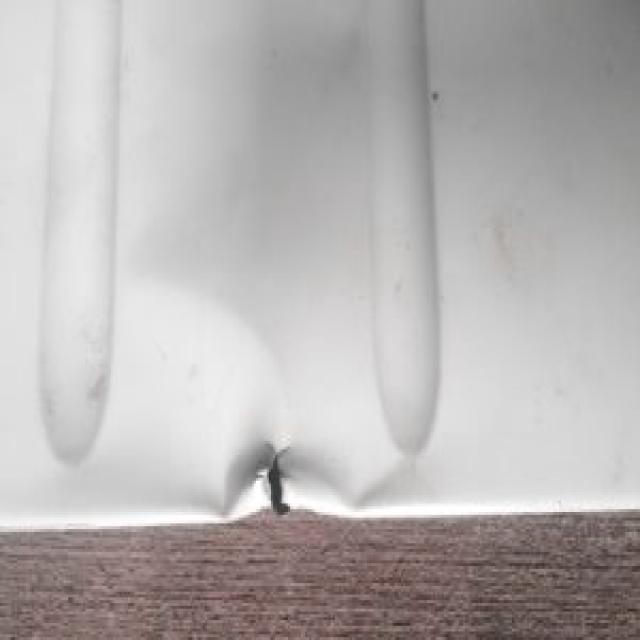crack: (248, 431, 304, 522)
